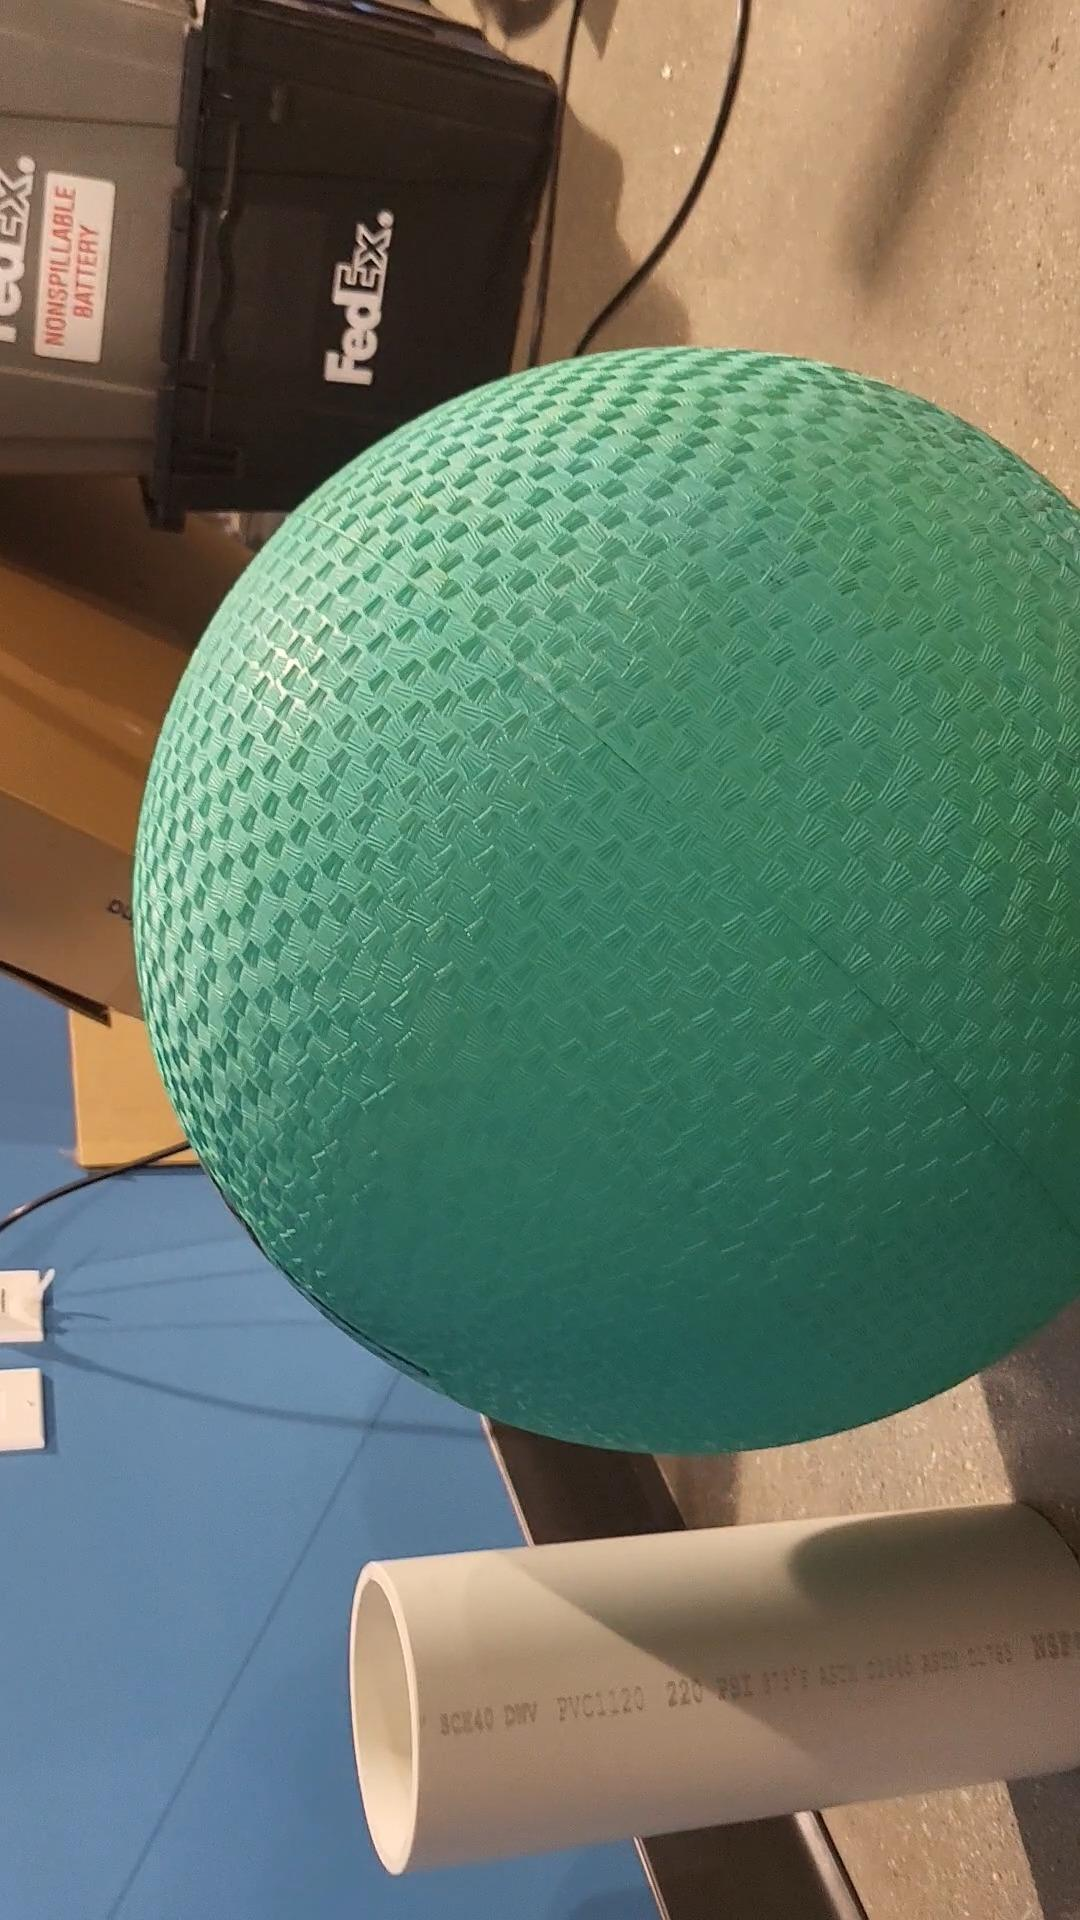algae: (132, 352, 1080, 1452)
coral: (355, 1502, 1079, 1878)
